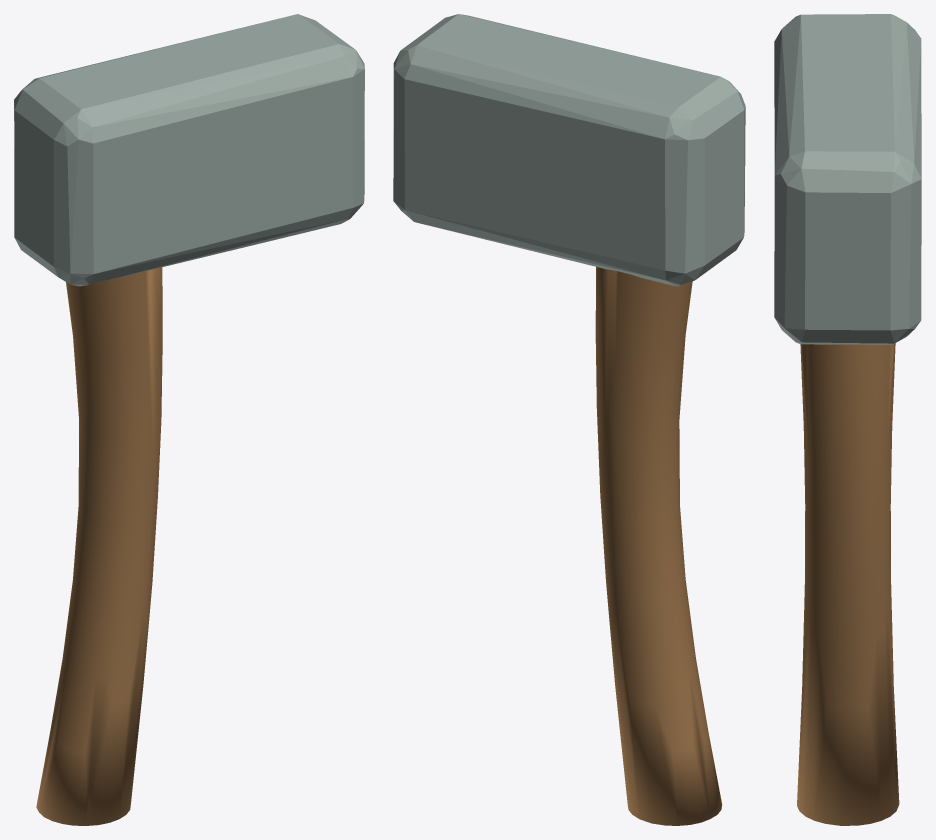
The model's file is reduced-500.glb.
The picture shows the model from 3 angles, left to right: view 1: azimuth 30°, elevation 25°; view 2: azimuth 150°, elevation 25°; view 3: azimuth 270°, elevation 25°; orthographic projection. The views are drawn at different scales.
Visible parts, largest first — view 1: Cube.002, Handle.002; view 2: Cube.002, Handle.002; view 3: Cube.002, Handle.002.
Boxes of the visible parts, x1,y1,x2,y2 form: Cube.002: (14, 14, 364, 286); Handle.002: (36, 267, 162, 825); Cube.002: (393, 14, 745, 286); Handle.002: (595, 267, 722, 825); Cube.002: (774, 14, 921, 344); Handle.002: (797, 343, 899, 825).
Size of the model in its own units: 0.6454 by 1.43 by 0.2452.
